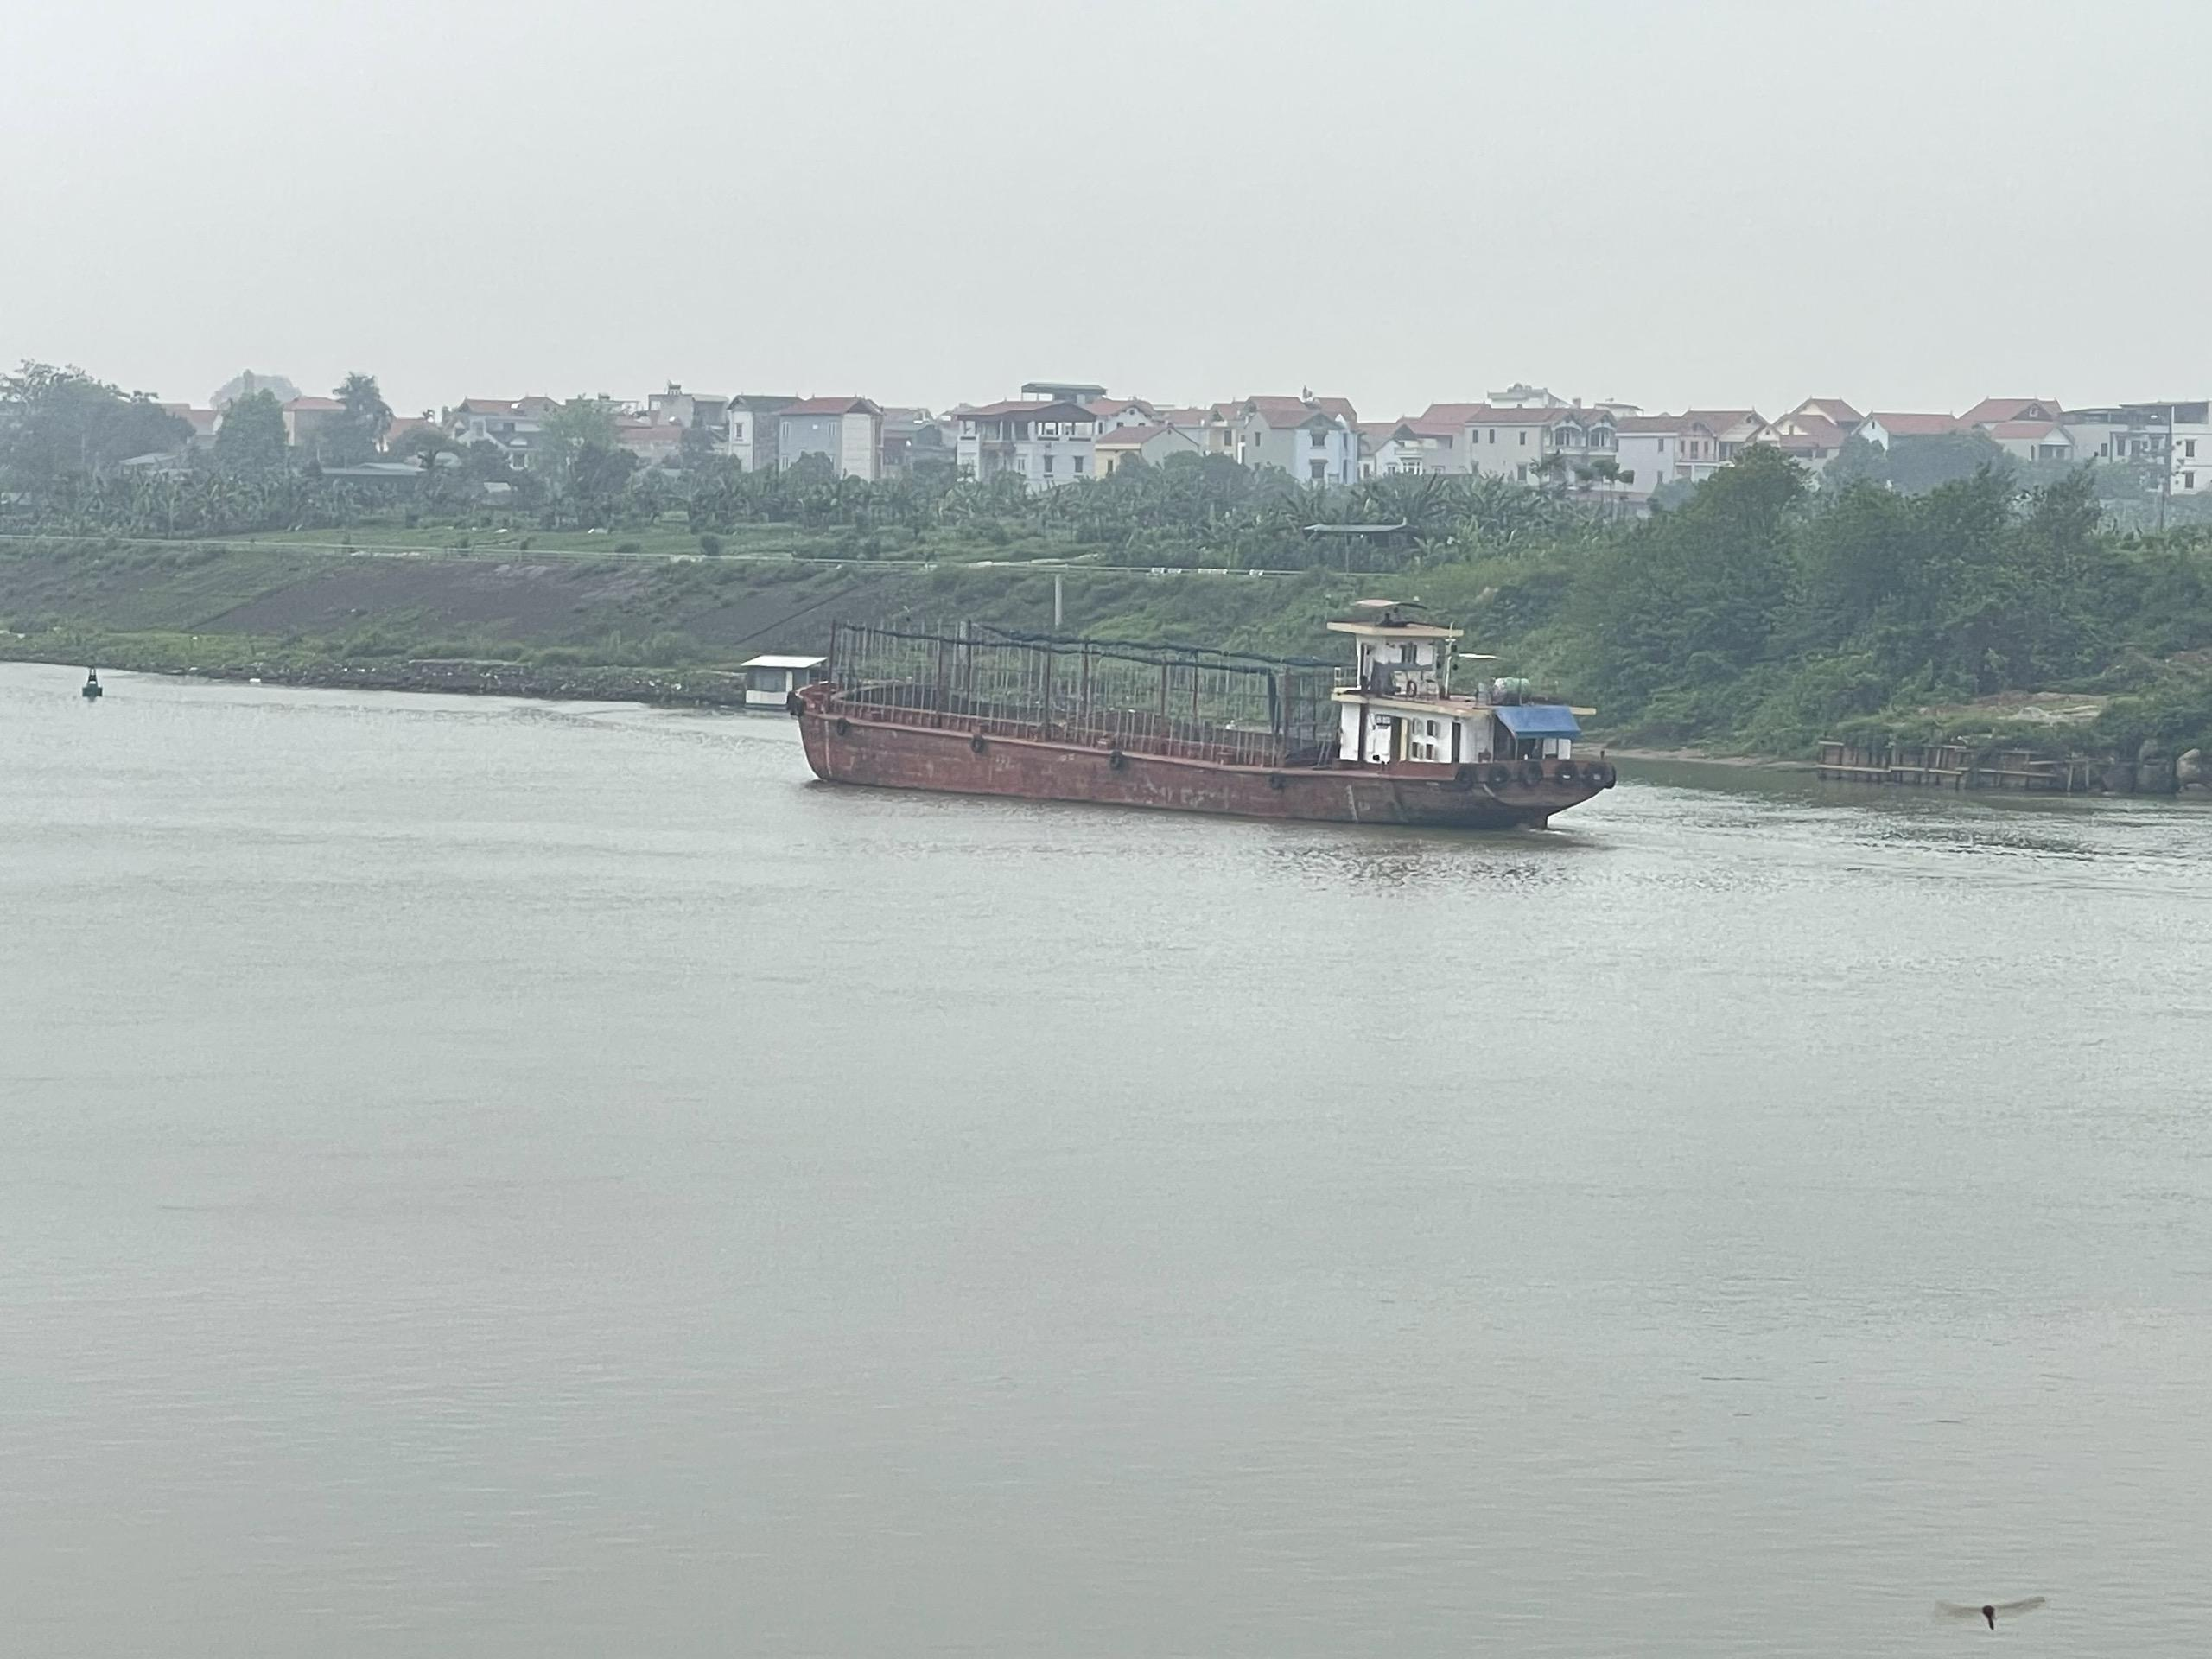Ship: (782, 606, 1618, 845)
